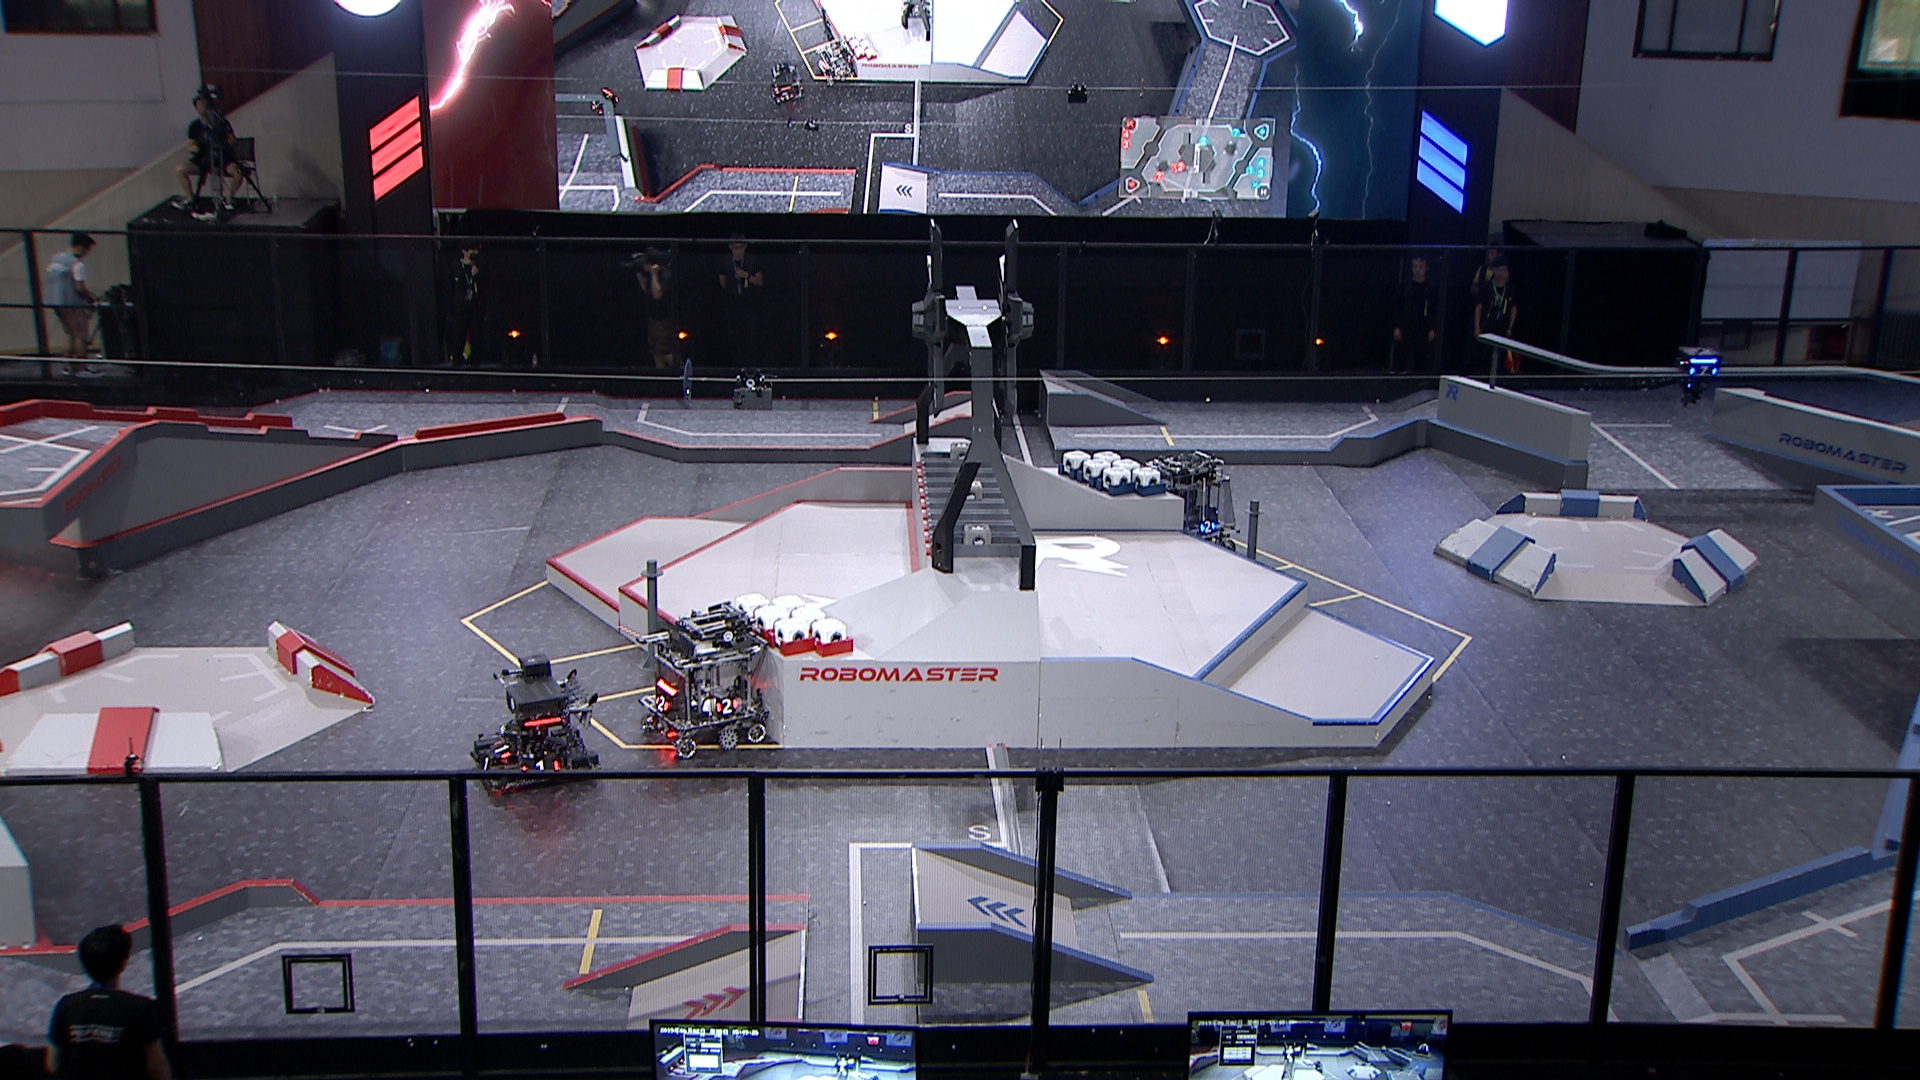armor: (522, 760, 560, 774), (473, 752, 495, 775), (713, 698, 740, 713), (495, 737, 512, 760), (1693, 363, 1718, 376), (650, 695, 667, 713), (1199, 518, 1215, 534)
car: (637, 597, 771, 757), (465, 651, 605, 796), (1139, 452, 1242, 559)
ignore: (814, 40, 858, 84), (765, 62, 807, 105), (588, 86, 618, 117)
watcher: (1671, 342, 1727, 406)
